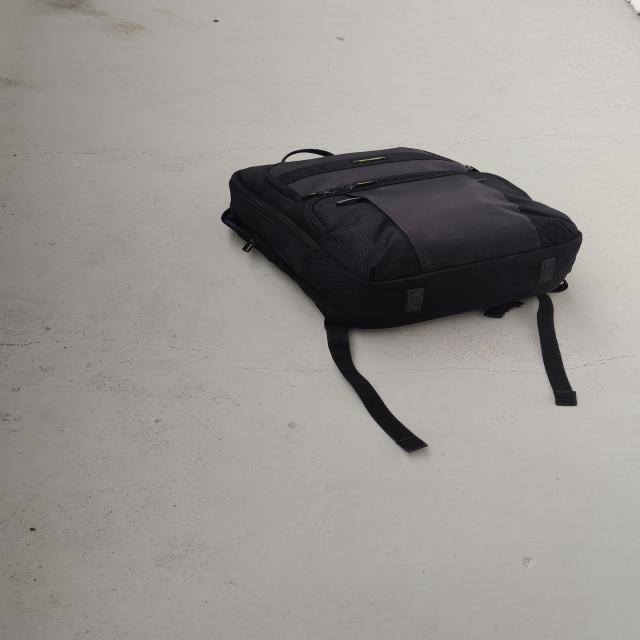backpack: (207, 140, 593, 340)
